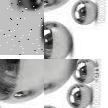ironball: (0, 0, 44, 54), (0, 58, 42, 104), (43, 59, 78, 99), (44, 0, 71, 42), (62, 76, 94, 107), (72, 59, 101, 80), (72, 0, 97, 23)
